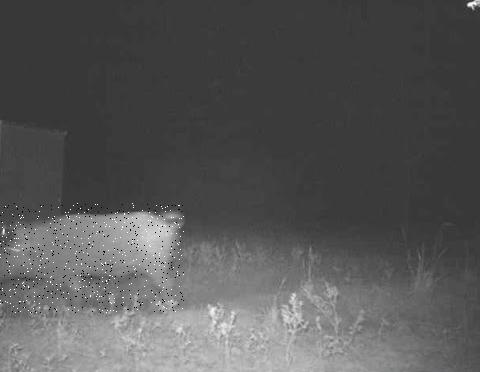Hog: (0, 203, 184, 313)
